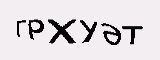Г: (51, 17, 67, 39)
Р: (66, 11, 86, 37)
С: (112, 15, 132, 37)
Ю: (25, 15, 50, 39), (88, 15, 110, 36)
